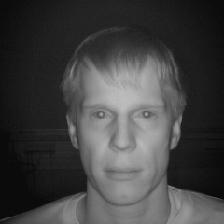normal: (56, 26, 191, 214)
